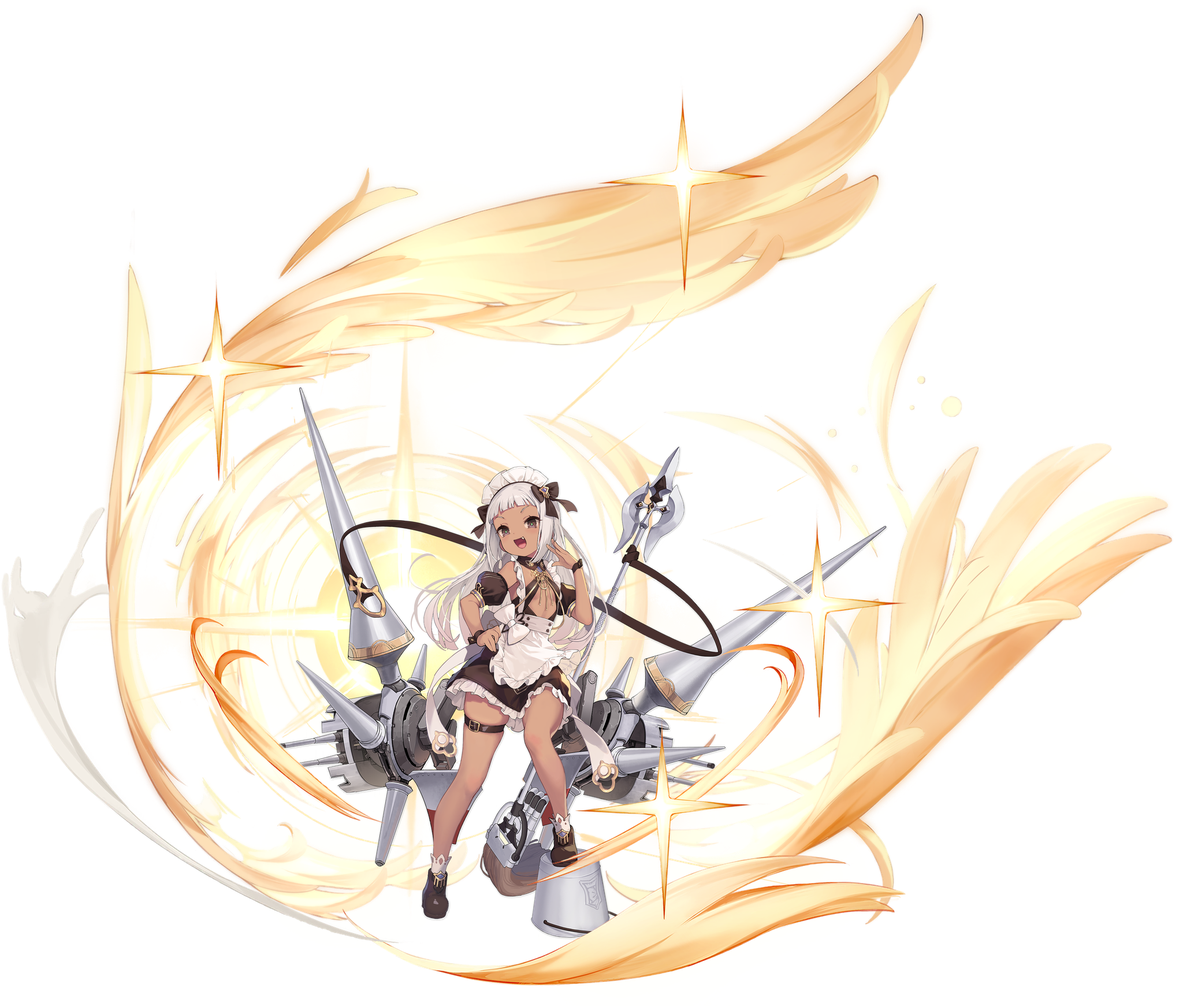person: (362, 442, 650, 970)
